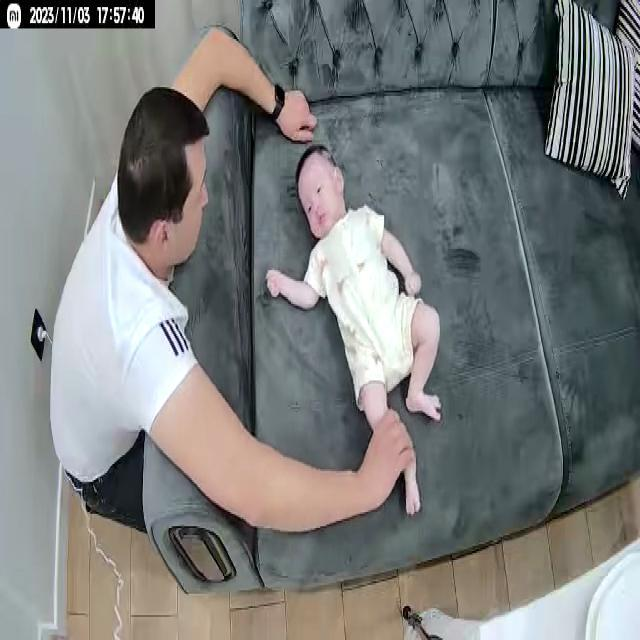baby: (265, 140, 443, 518)
